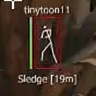hacks_3: (18, 6, 77, 85)
